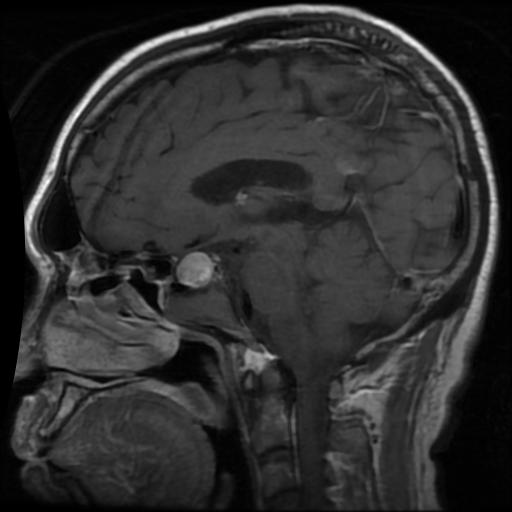Pituirity_tumour: (177, 251, 213, 286)
